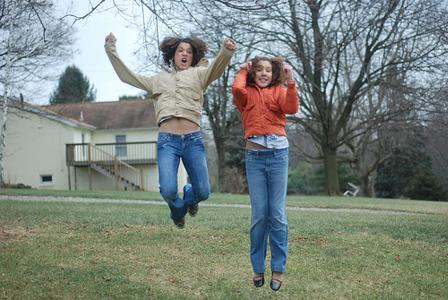person: (105, 31, 236, 229)
